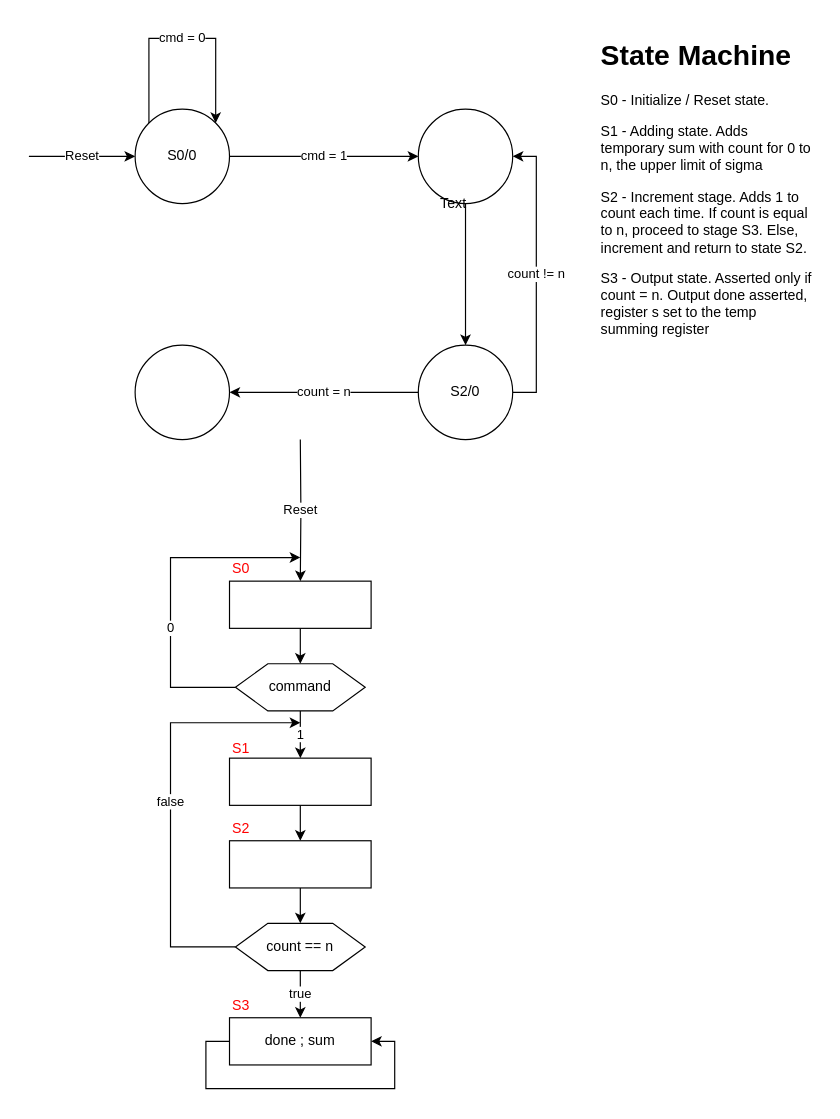
This 840x1119 diagram has some shape labels left out. Each missing label, with the box of its shape:
S1/0: (417, 108, 513, 204)
S3/sum: (134, 344, 230, 440)
